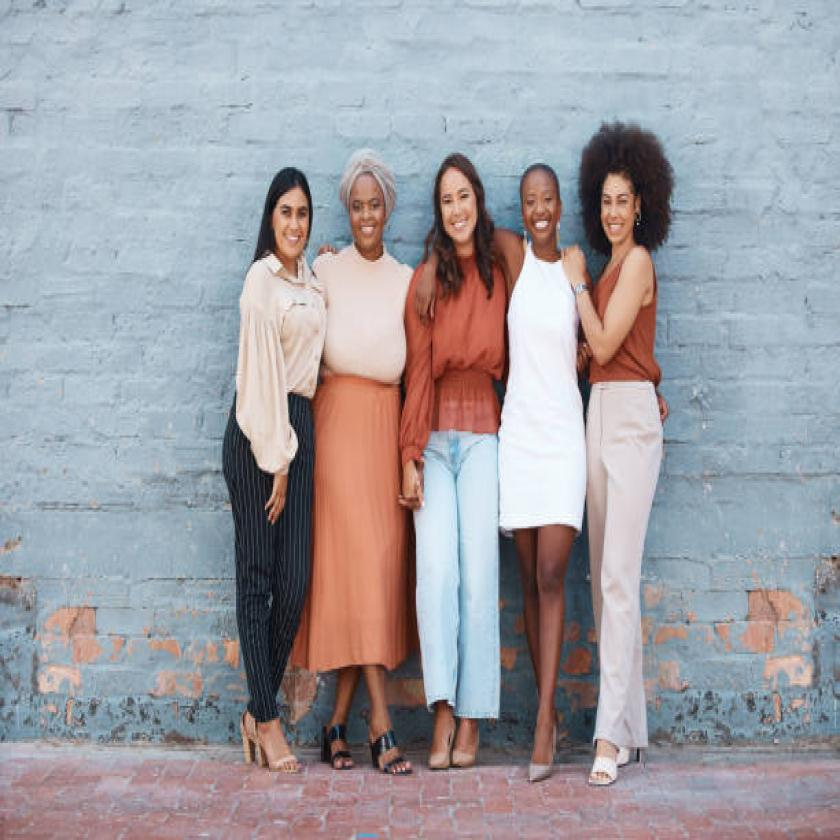Sin_casco: (573, 104, 679, 294), (245, 128, 328, 292), (326, 130, 418, 270), (427, 120, 492, 274), (508, 145, 567, 259)
